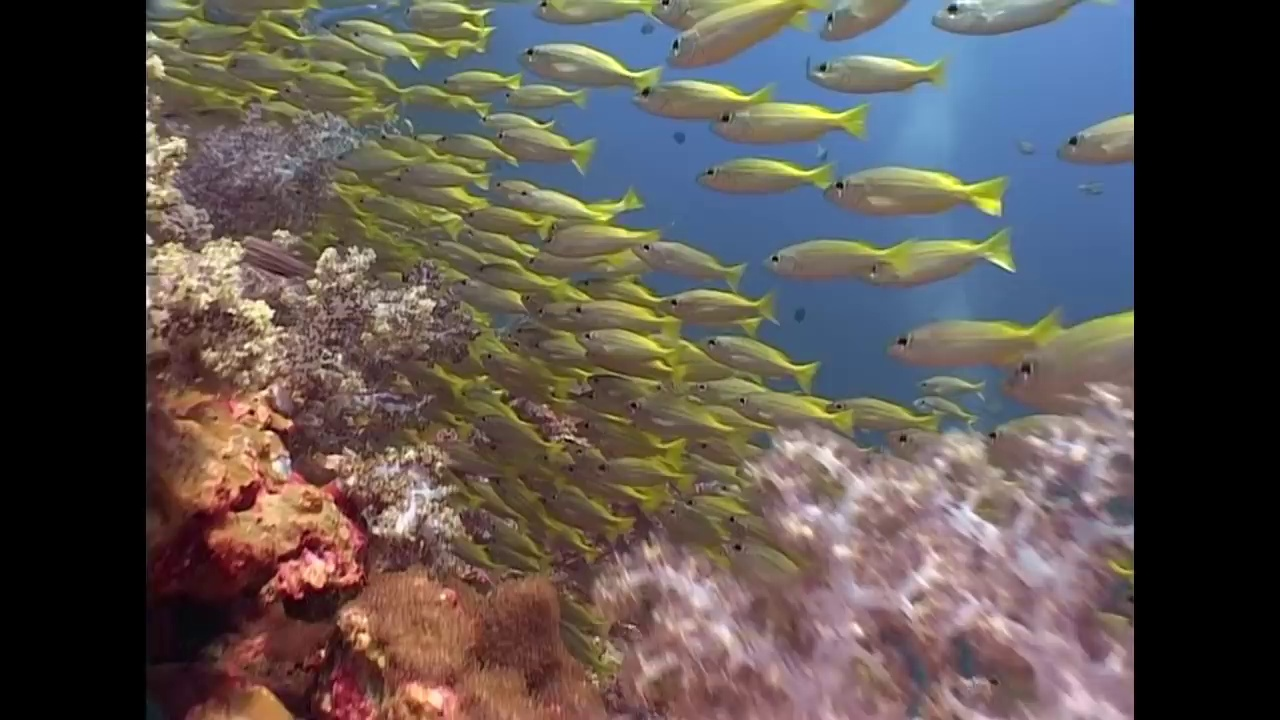big eye snapper: (1007, 304, 1132, 412), (885, 302, 1061, 377), (821, 159, 1007, 222), (665, 1, 807, 73), (860, 228, 1014, 293), (516, 37, 661, 96), (709, 92, 869, 144), (698, 326, 814, 395), (758, 230, 911, 282), (629, 219, 744, 288), (728, 386, 862, 441), (627, 69, 771, 115), (824, 391, 942, 443), (803, 48, 942, 92), (1045, 100, 1132, 170), (574, 417, 685, 471), (537, 477, 630, 540), (688, 153, 835, 191), (569, 290, 678, 340), (538, 216, 657, 261), (657, 283, 781, 326), (569, 323, 679, 371), (491, 123, 587, 177), (518, 170, 609, 225), (627, 390, 738, 435), (470, 406, 556, 456), (435, 117, 518, 166), (461, 256, 559, 297), (327, 15, 418, 59), (728, 539, 803, 591), (907, 382, 974, 439), (332, 135, 425, 173), (500, 74, 590, 113), (465, 199, 544, 242), (589, 453, 687, 486), (172, 19, 258, 48), (438, 62, 522, 90), (544, 199, 564, 299), (719, 508, 774, 544), (915, 372, 985, 399), (916, 372, 985, 399), (918, 372, 985, 399), (680, 491, 737, 522), (532, 300, 574, 323)
